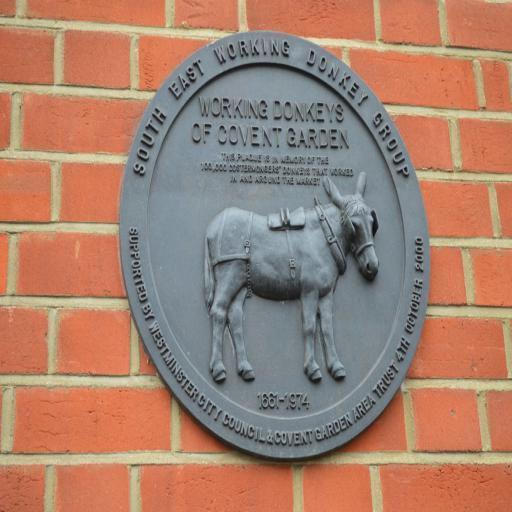horse: (204, 168, 380, 386)
